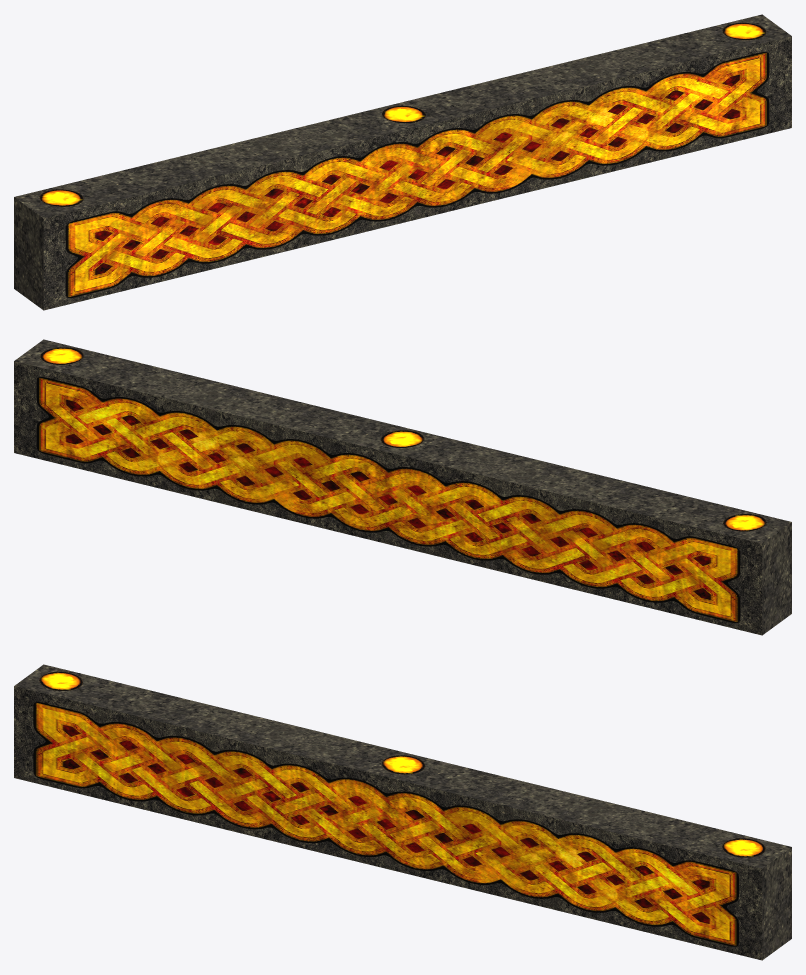
Rendered from mountain_border.gltf.
3 views of the same model, one above another, from view 1: azimuth 30°, elevation 25°; view 2: azimuth 150°, elevation 25°; view 3: azimuth 330°, elevation 25° (orthographic).
Visible parts, largest first — view 1: mountain_border_glb; view 2: mountain_border_glb; view 3: mountain_border_glb.
Part boxes in pixels (bbox=[...]): mountain_border_glb: bbox=[14, 14, 791, 310]; mountain_border_glb: bbox=[14, 339, 791, 635]; mountain_border_glb: bbox=[14, 664, 791, 960].
Size of what is drawn, in the model's own units: 4.03 by 0.4881 by 0.3004.
Materials: 2 (2 with a texture image).
